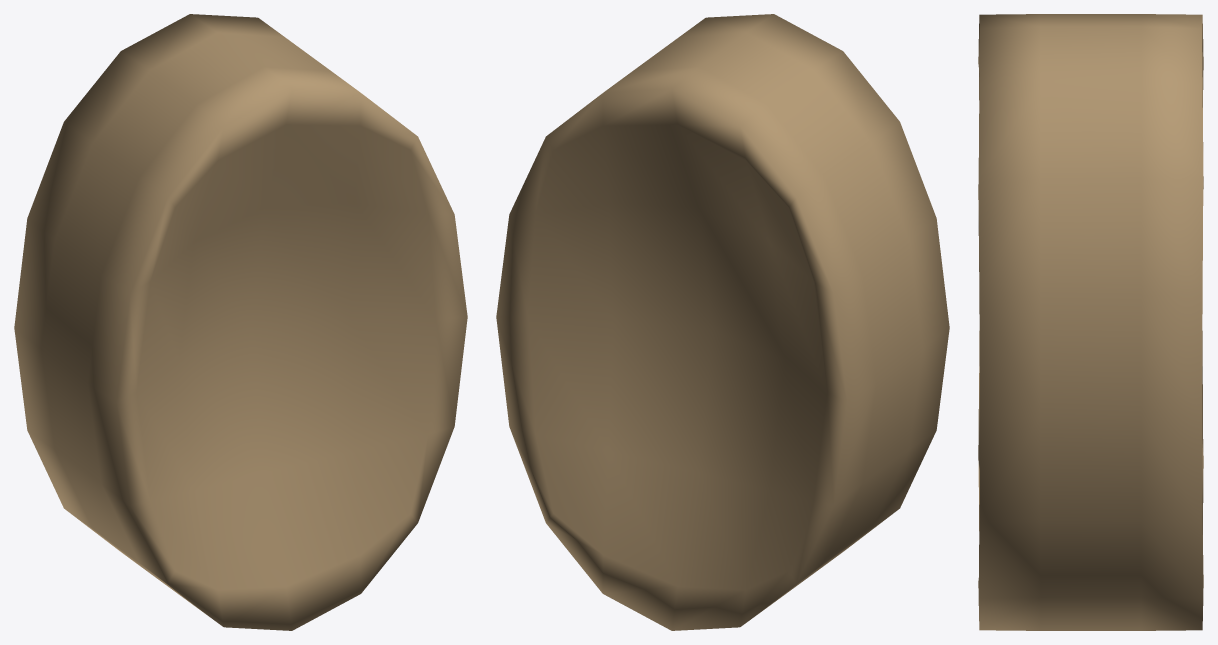
Rendered from Food.fbx.
3 views of the same model, side by side, from view 1: azimuth 30°, elevation 25°; view 2: azimuth 150°, elevation 25°; view 3: azimuth 270°, elevation 25° (orthographic). The views are drawn at different scales.
Parts seen in each view (by area): view 1: Yem; view 2: Yem; view 3: Yem.
Boxes of the visible parts, left/top/right/bottom form: Yem: left=14, top=14, right=467, bottom=630; Yem: left=496, top=14, right=949, bottom=630; Yem: left=978, top=14, right=1203, bottom=630.
Bounding box in the file's own units: 14.54 × 21.44 × 7.4.
